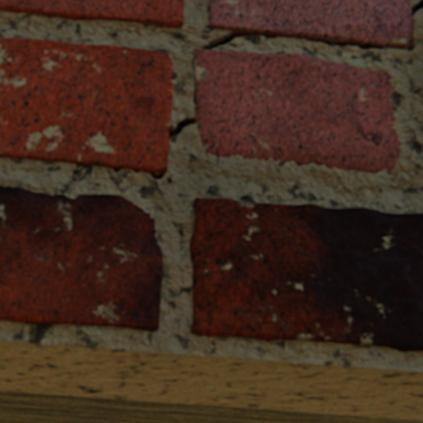brick: (189, 198, 422, 350), (193, 49, 399, 173), (0, 38, 172, 173), (0, 186, 162, 329), (209, 0, 411, 47), (0, 0, 184, 28)
crack: (306, 40, 411, 51), (202, 33, 261, 50), (168, 120, 194, 138), (410, 0, 422, 16), (150, 174, 163, 179)
